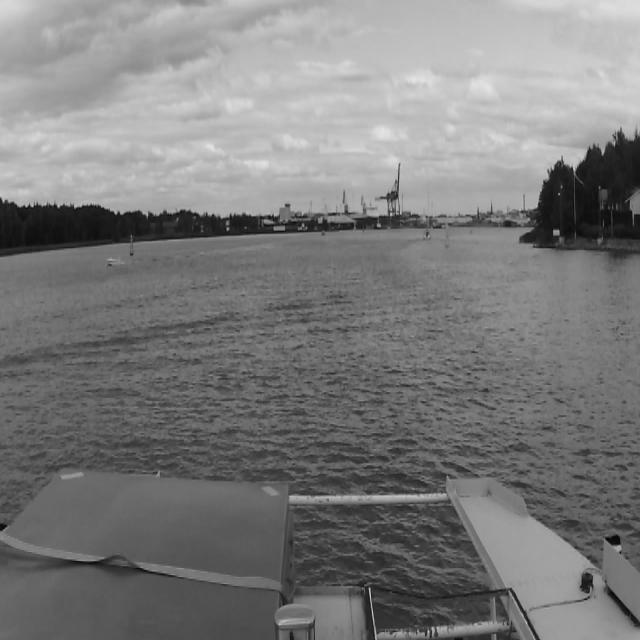buoy: (128, 235, 135, 256), (445, 222, 449, 250), (362, 224, 364, 235)
ship: (422, 183, 432, 242), (105, 255, 120, 267)
